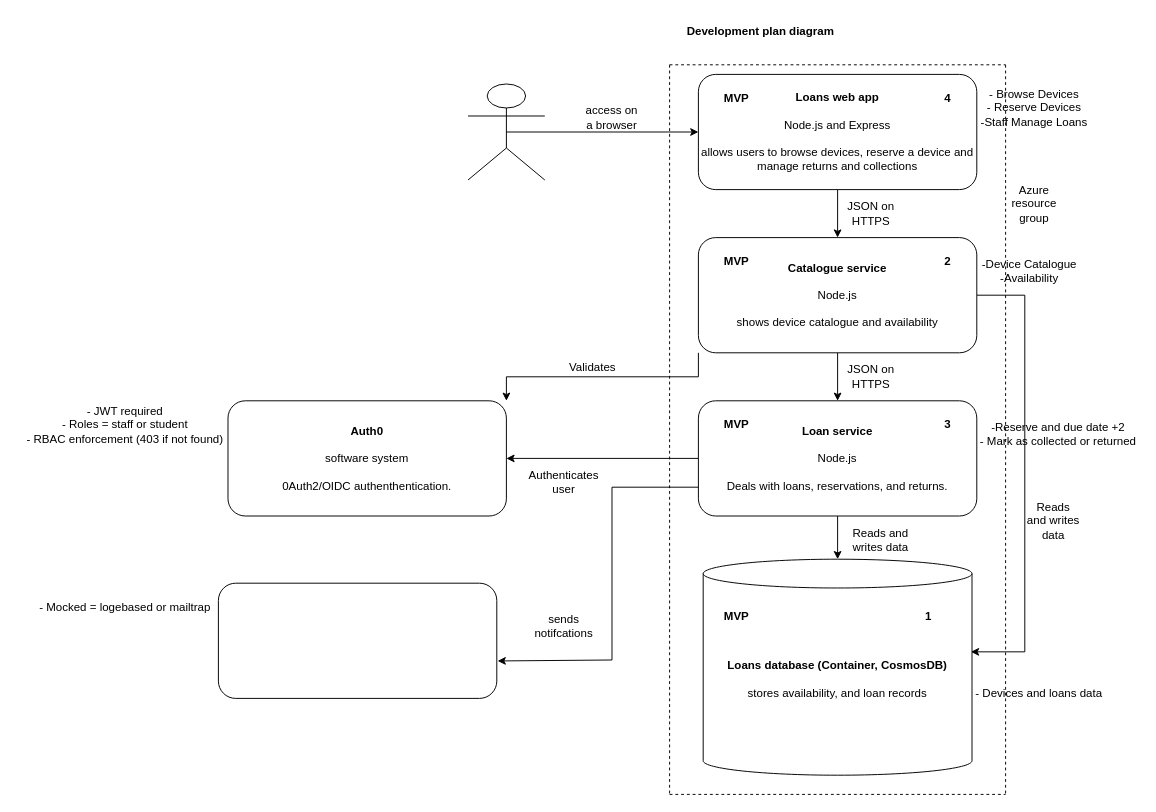
Image size: 1156x812. Some labels were removed from this diagram. The centre of each missing label's shape, as x and y in pixels:
"Email service software system sends email notifcations" belongs at point 357,640.
"Student uses the system on a web page" belongs at point 506,131.
